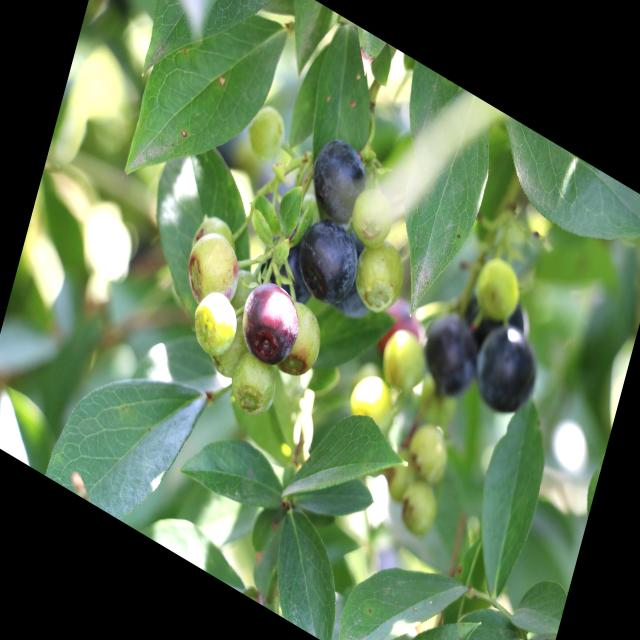blueberry: (469, 314, 548, 431), (292, 197, 369, 315), (412, 301, 488, 408), (301, 126, 372, 230), (248, 227, 318, 316), (327, 271, 379, 339)
blueberry-halfripe: (234, 266, 304, 371)
blueberry-unripe: (180, 222, 244, 316), (271, 292, 329, 390), (349, 232, 410, 324), (182, 281, 244, 371), (376, 319, 432, 401), (472, 250, 526, 324), (228, 345, 278, 420), (403, 416, 453, 486), (396, 471, 442, 541), (242, 98, 288, 168), (350, 184, 396, 250), (351, 366, 394, 434)
